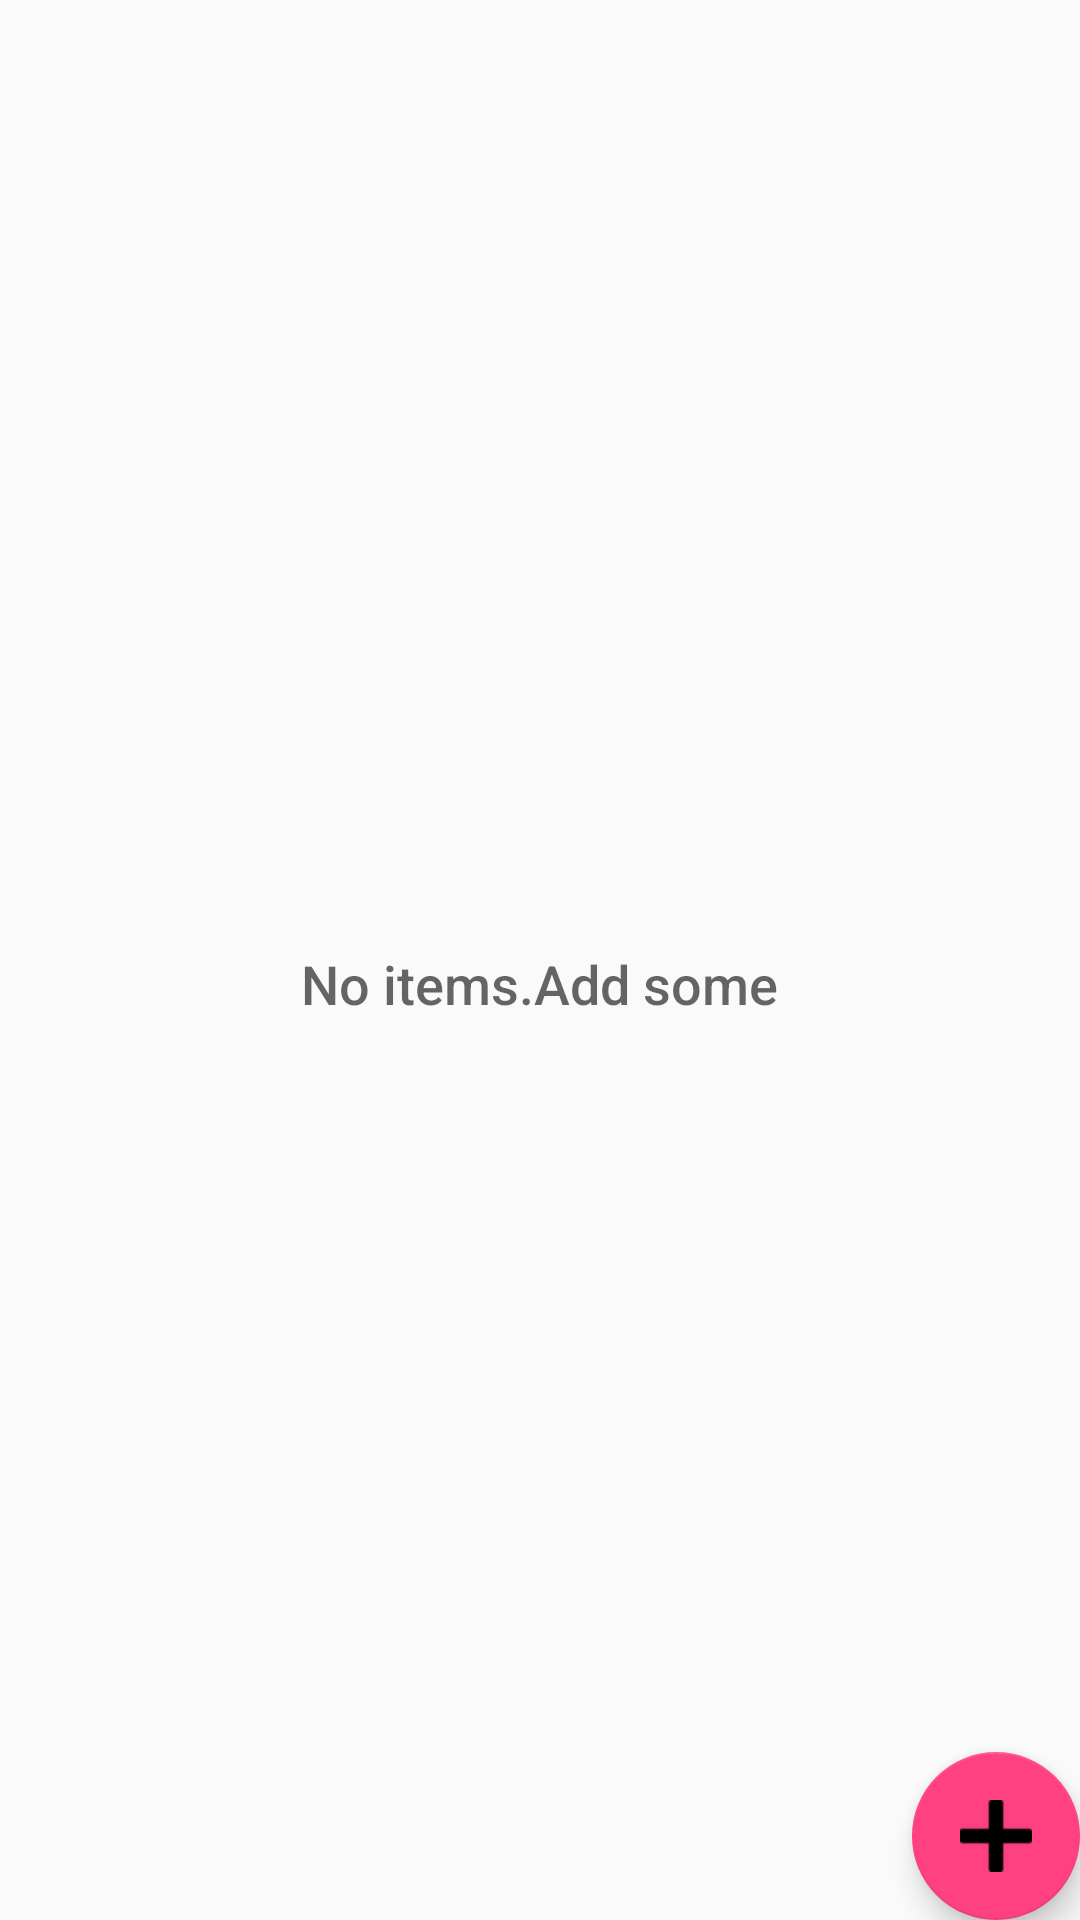

Screen size 1080×1920. Icon name, then its center in pixels as (x=x, y=y):
add: (x=996, y=1836)
